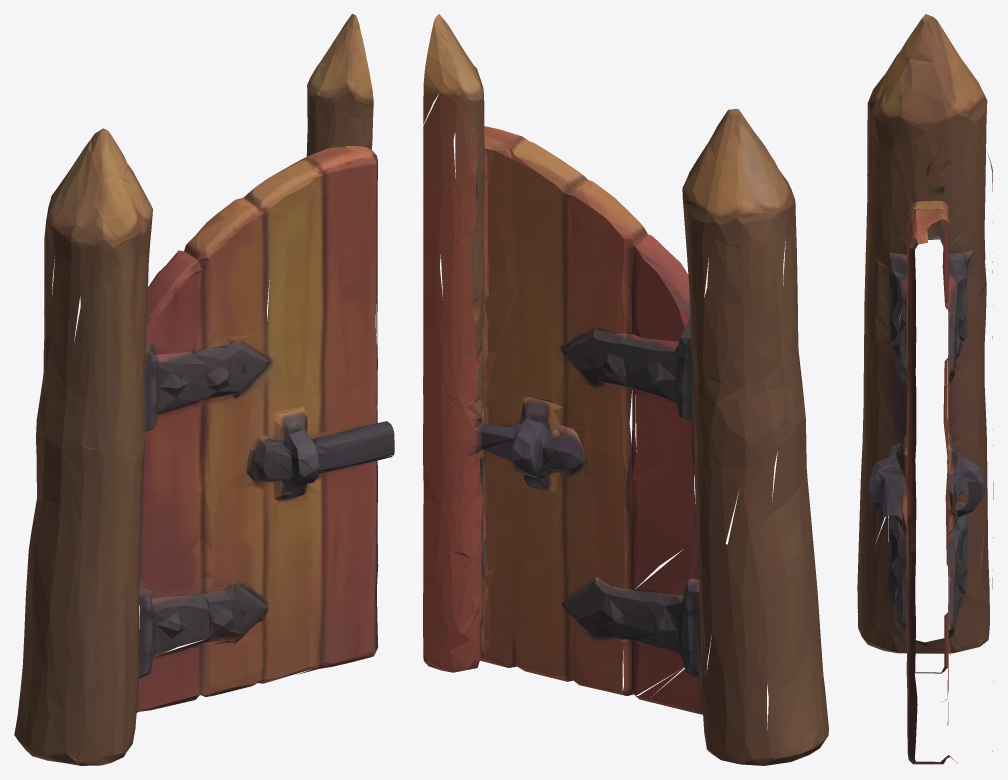
The model's file is gate_archive_l.glb.
The picture shows the model from 3 angles, left to right: view 1: azimuth 30°, elevation 25°; view 2: azimuth 150°, elevation 25°; view 3: azimuth 270°, elevation 25°; orthographic projection. The views are drawn at different scales.
Parts seen in each view (by area): view 1: geometry_0; view 2: geometry_0; view 3: geometry_0.
Part boxes in pixels (left/top/right/bottom): geometry_0: left=14, top=14, right=394, bottom=765; geometry_0: left=423, top=14, right=828, bottom=765; geometry_0: left=857, top=14, right=993, bottom=764.
Bounding box in the file's own units: 0.9999 × 1.76 × 0.3221.
Materials: 1 (1 with a texture image).
